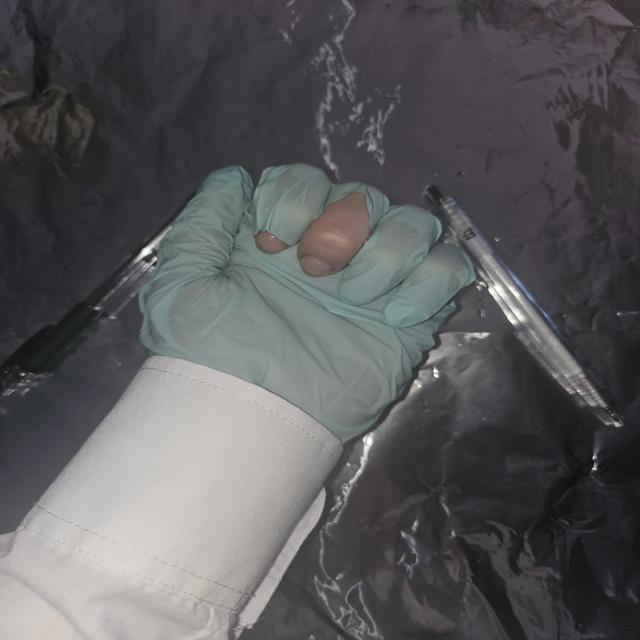gloves_damaged: (138, 162, 481, 444)
